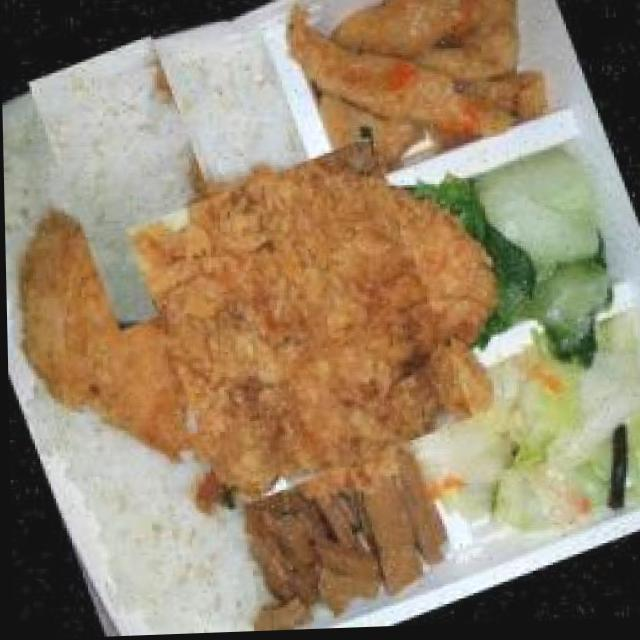fried_chicken: (123, 137, 472, 517)
rice: (0, 17, 273, 303), (90, 458, 261, 638)
